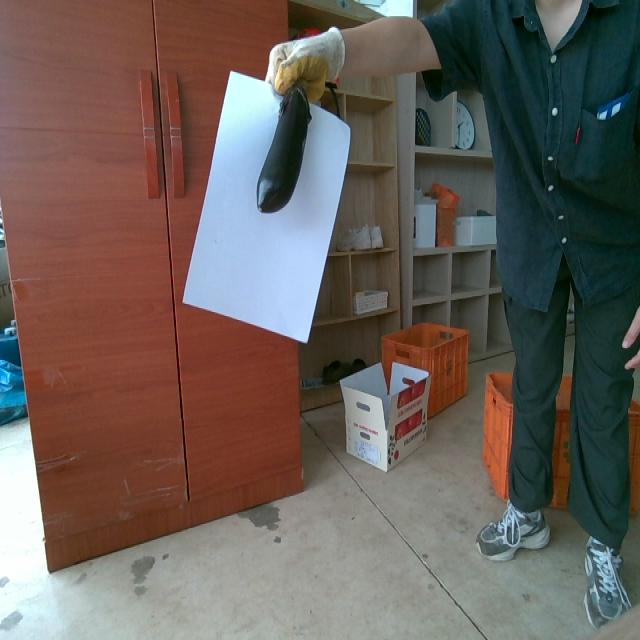Egg plant: (257, 85, 311, 212)
